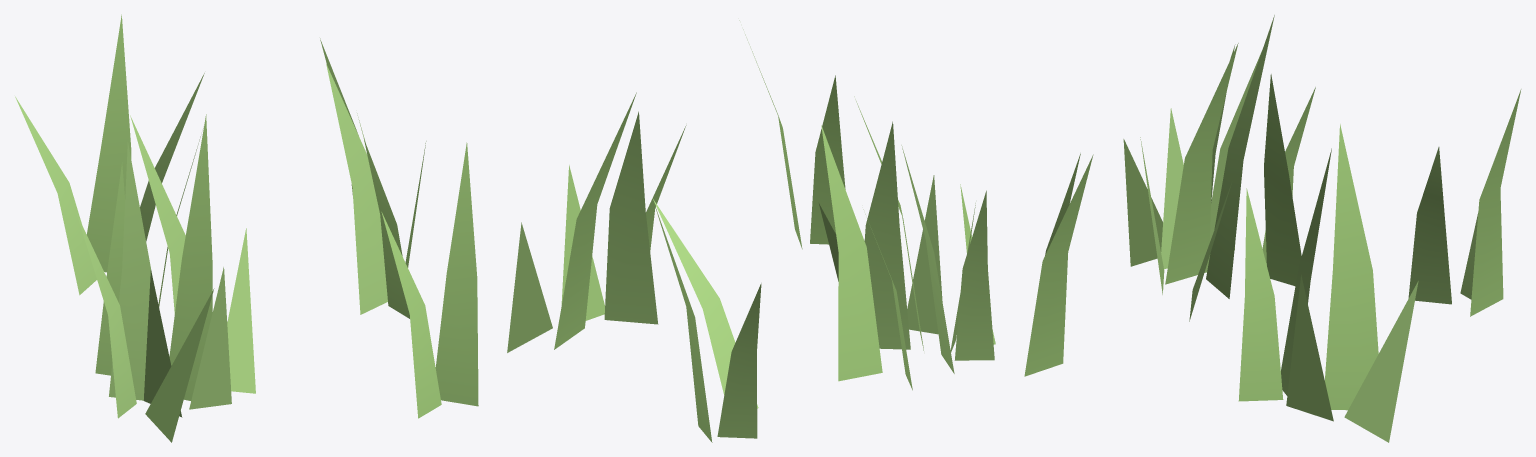
File: Grass_a_TwoS_07.fbx
3 views of the same model, side by side, from view 1: azimuth 30°, elevation 25°; view 2: azimuth 150°, elevation 25°; view 3: azimuth 270°, elevation 25° (orthographic).
Parts seen in each view (by area): view 1: Grass_a_TwoS_07; view 2: Grass_a_TwoS_07; view 3: Grass_a_TwoS_07.
Boxes of the visible parts, left/top/right/bottom form: Grass_a_TwoS_07: left=15, top=14, right=478, bottom=442; Grass_a_TwoS_07: left=507, top=20, right=995, bottom=442; Grass_a_TwoS_07: left=1024, top=15, right=1521, bottom=442.
Bounding box in the file's own units: 100 × 64.28 × 108.
